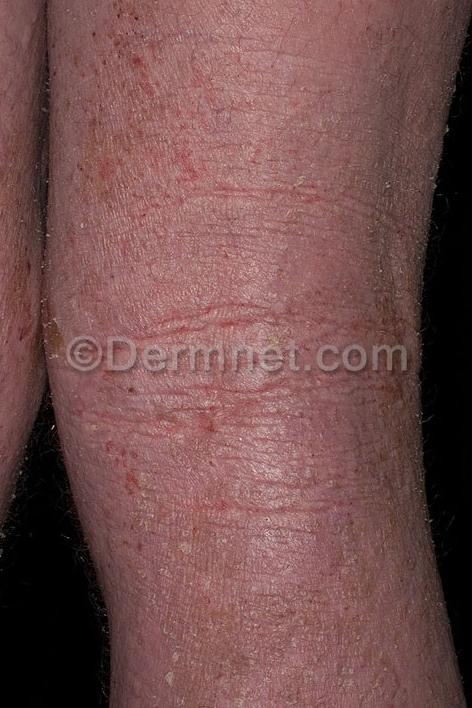eritema 3: (0, 0, 443, 708)
exudacion 1: (72, 1, 218, 239)
exudacion 2: (0, 135, 72, 361)
xerosis 3: (163, 0, 472, 708)
